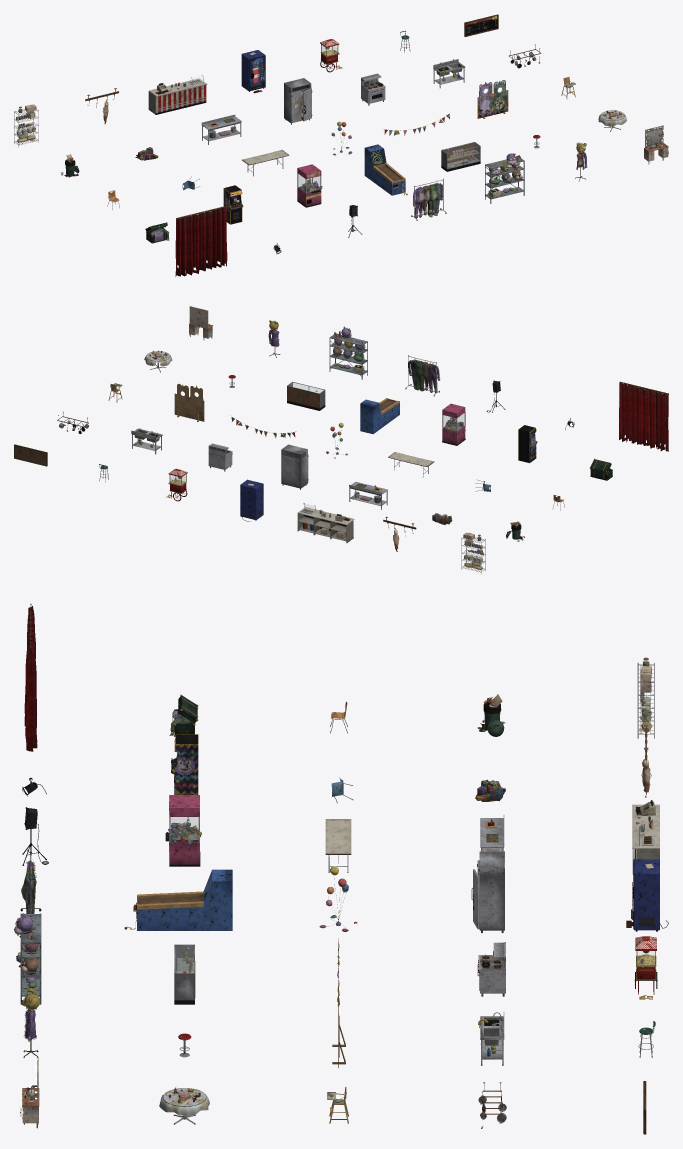
Rendered from props_b.glb.
3 renders of one model, top to bottom at view 1: azimuth 30°, elevation 25°; view 2: azimuth 150°, elevation 25°; view 3: azimuth 270°, elevation 25°, orthographic. The views are drawn at different scales.
Parts seen in each view (by area): view 1: curtain, snack_counter, spare_heads, skee_ball, standee, claw_machine, costume_rack, soda_machine, prize_counter, fridge, wire_shelf, counter_steel (+8 smaller); view 2: curtain, snack_counter, spare_heads, fridge, skee_ball, standee, claw_machine, costume_rack, soda_machine, prize_counter, wire_shelf, arcade_cabinet (+6 smaller); view 3: skee_ball, claw_machine, fridge, soda_machine, spare_heads, snack_counter, arcade_cabinet, curtain, prize_counter, range, table_round, wire_shelf (+6 smaller).
Boxes of the visible parts, left/top/right/bottom form: curtain: left=175, top=206, right=227, bottom=276; snack_counter: left=148, top=74, right=207, bottom=114; spare_heads: left=485, top=153, right=524, bottom=203; skee_ball: left=364, top=144, right=407, bottom=195; standee: left=477, top=80, right=508, bottom=118; claw_machine: left=297, top=164, right=322, bottom=207; costume_rack: left=411, top=178, right=446, bottom=220; soda_machine: left=241, top=50, right=265, bottom=93; prize_counter: left=441, top=142, right=480, bottom=171; fridge: left=284, top=78, right=311, bottom=124; wire_shelf: left=14, top=104, right=38, bottom=147; counter_steel: left=201, top=114, right=241, bottom=144; curtain: left=619, top=381, right=668, bottom=451; snack_counter: left=297, top=503, right=354, bottom=543; spare_heads: left=329, top=326, right=367, bottom=379; fridge: left=281, top=444, right=308, bottom=489; skee_ball: left=360, top=398, right=399, bottom=434; standee: left=174, top=384, right=204, bottom=421; claw_machine: left=442, top=403, right=465, bottom=445; costume_rack: left=405, top=355, right=440, bottom=396; soda_machine: left=240, top=479, right=263, bottom=521; prize_counter: left=287, top=381, right=325, bottom=410; wire_shelf: left=461, top=532, right=485, bottom=574; arcade_cabinet: left=518, top=425, right=537, bottom=463; skee_ball: left=124, top=869, right=232, bottom=930; claw_machine: left=165, top=795, right=201, bottom=866; fridge: left=477, top=851, right=504, bottom=933; soda_machine: left=626, top=859, right=668, bottom=931; spare_heads: left=14, top=913, right=41, bottom=1004; snack_counter: left=632, top=800, right=659, bottom=874; arcade_cabinet: left=171, top=734, right=198, bottom=794; curtain: left=24, top=603, right=37, bottom=751; prize_counter: left=174, top=944, right=195, bottom=1004; range: left=477, top=942, right=505, bottom=996; table_round: left=159, top=1087, right=209, bottom=1124; wire_shelf: left=637, top=657, right=654, bottom=738.
Size of the model in its own units: 29.5 by 3.41 by 19.16.
6 materials, 4 textured.
